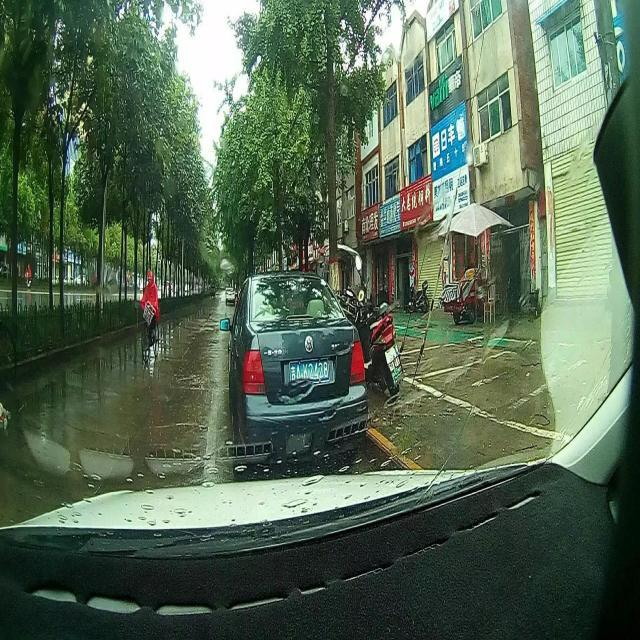car: (219, 270, 368, 461), (226, 287, 236, 304)
